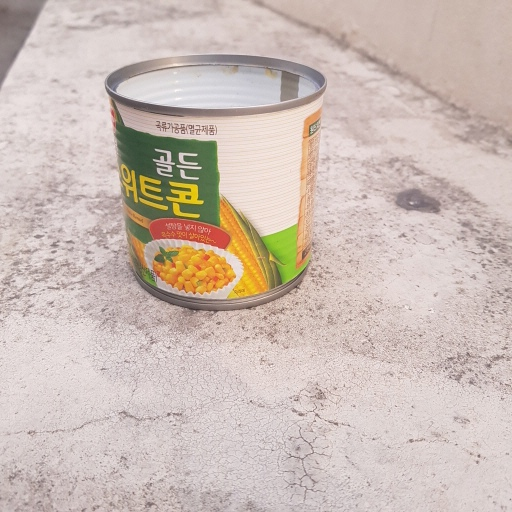Metal_1: (103, 52, 330, 312)
